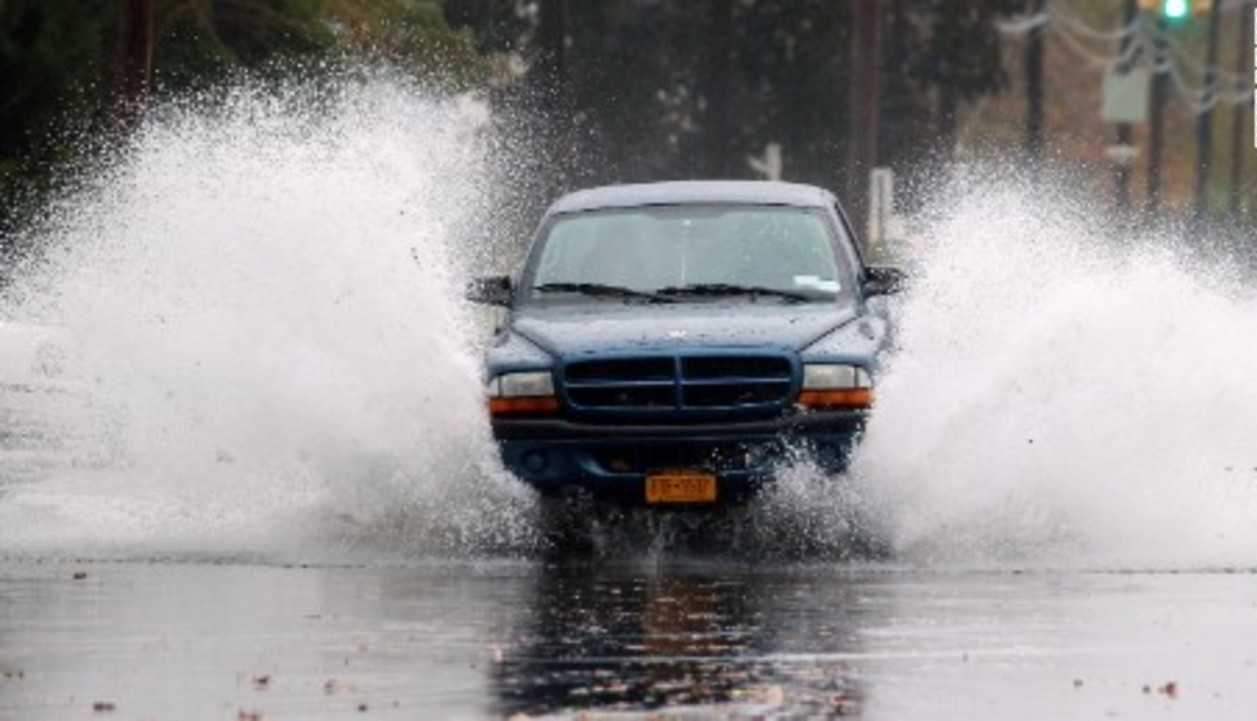car: (456, 182, 907, 515)
